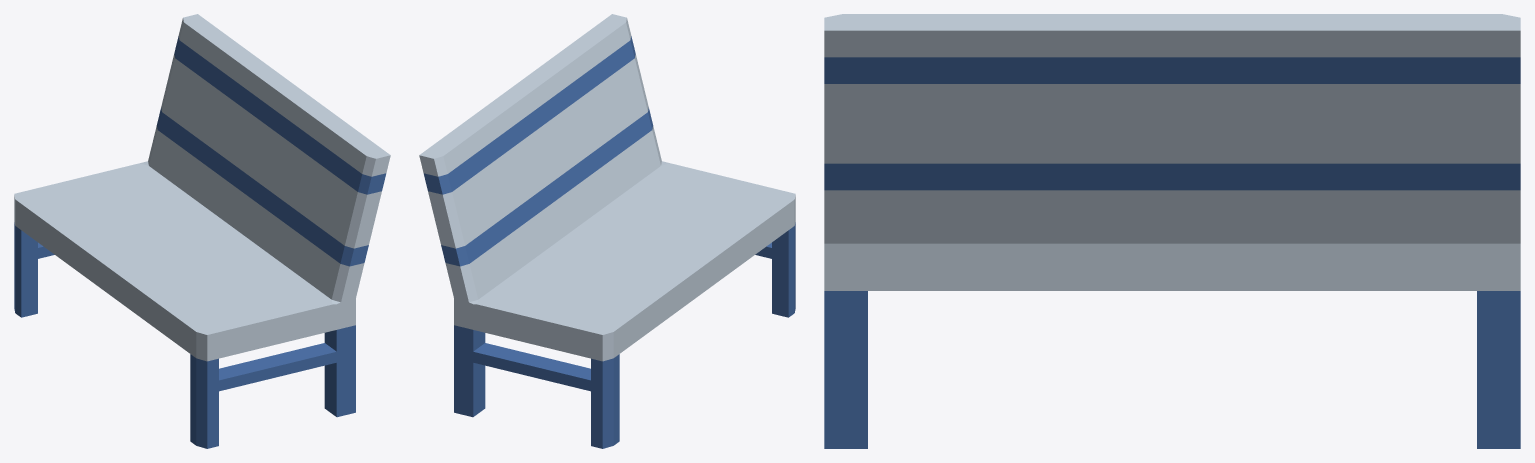
The model's file is BenchModel03.fbx.
The picture shows the model from 3 angles, left to right: view 1: azimuth 30°, elevation 25°; view 2: azimuth 150°, elevation 25°; view 3: azimuth 270°, elevation 25°; orthographic projection. The views are drawn at different scales.
Visible parts, largest first — view 1: Bench03; view 2: Bench03; view 3: Bench03.
Boxes of the visible parts, x1,y1,x2,y2 form: Bench03: (14, 14, 390, 448); Bench03: (419, 14, 795, 448); Bench03: (824, 14, 1520, 448).
Size of the model in its own units: 100 by 126 by 177.
